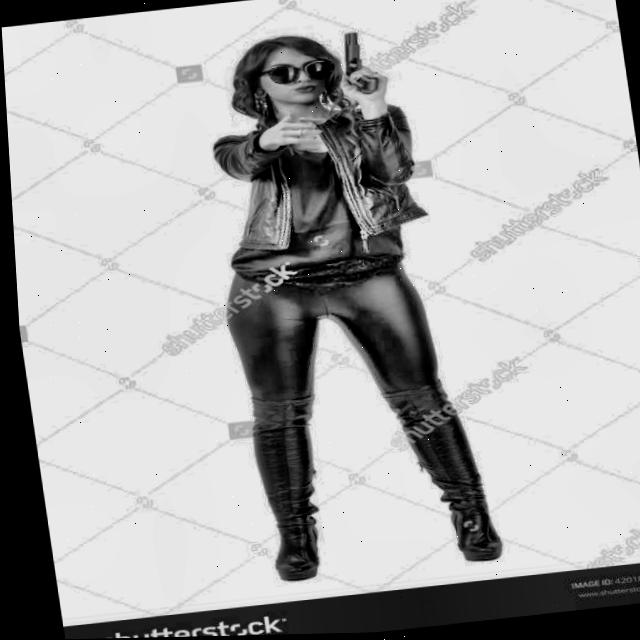pistol: (331, 9, 403, 127)
